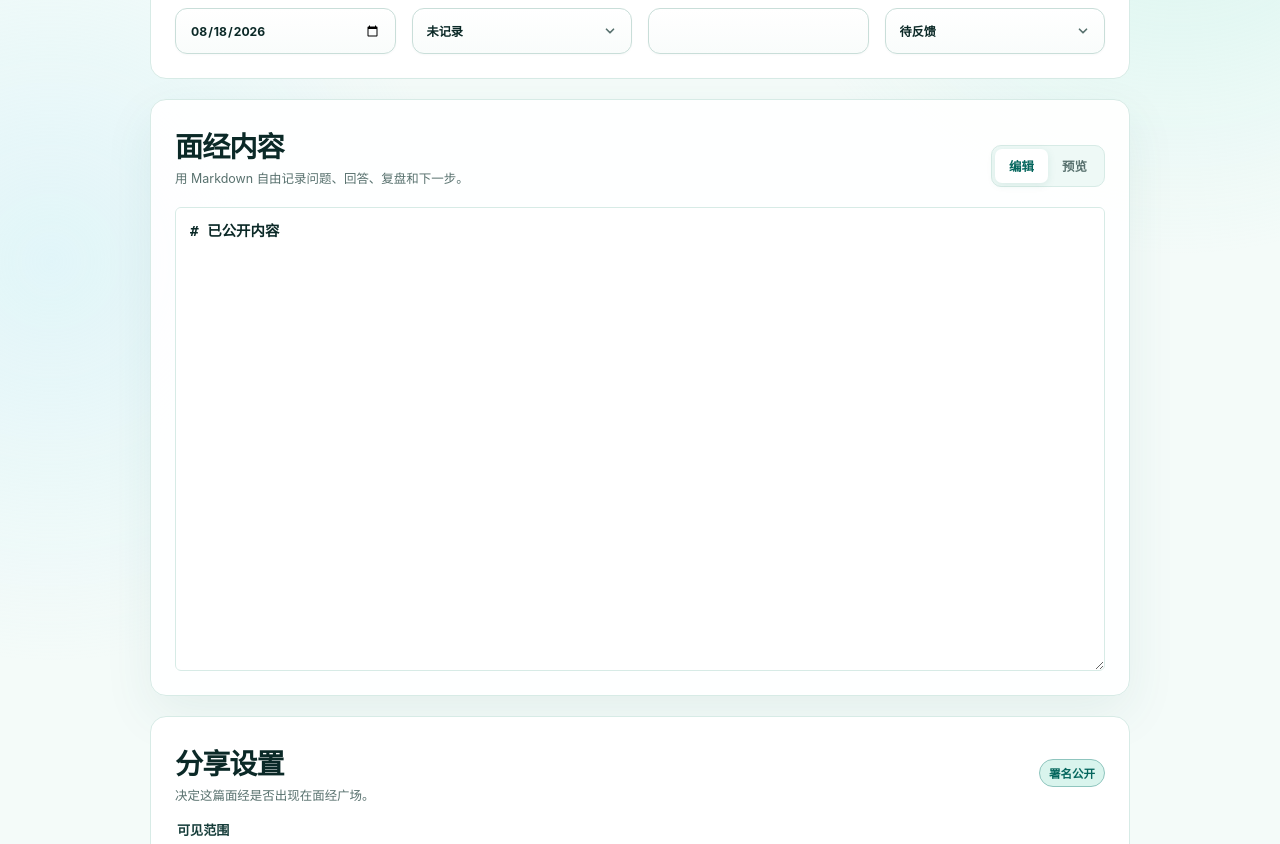
Test case: 面经编辑器 › 仅完成后允许公开，并在继续编辑时自动回到私有
(page scrolled)
Replace the text in the text box named "编辑 Markdown" with "# 修改后的内容". click: (640, 439)
box: [176,208,1104,670]
(page scrolled)
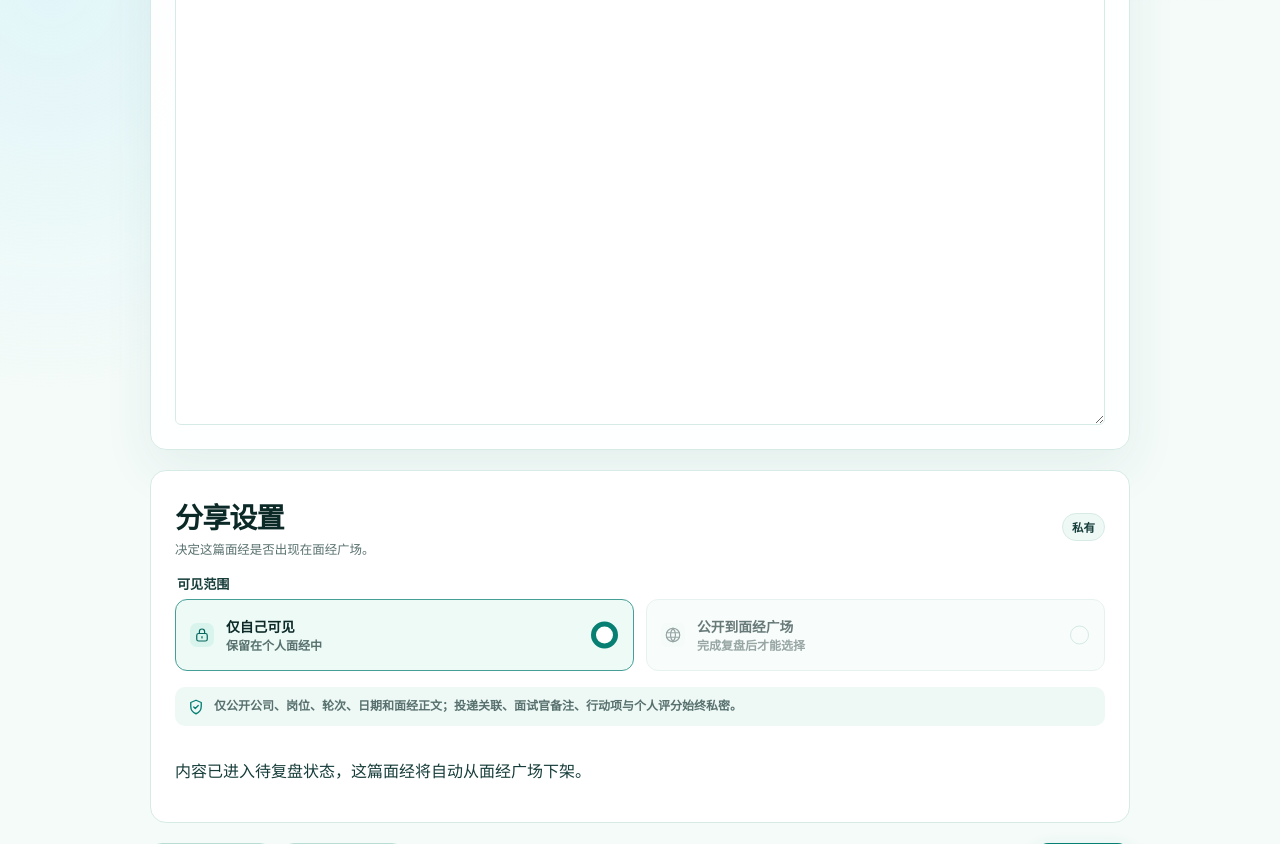
Expected: the radio button labelled "仅自己可见 保留在个人面经中" is checked, [175,599,634,671]
Expected: the radio button labelled "公开到面经广场 完成复盘后才能选择" is disabled, [646,599,1105,671]
Expected: the text "私有" is shown, [1062,513,1105,541]
